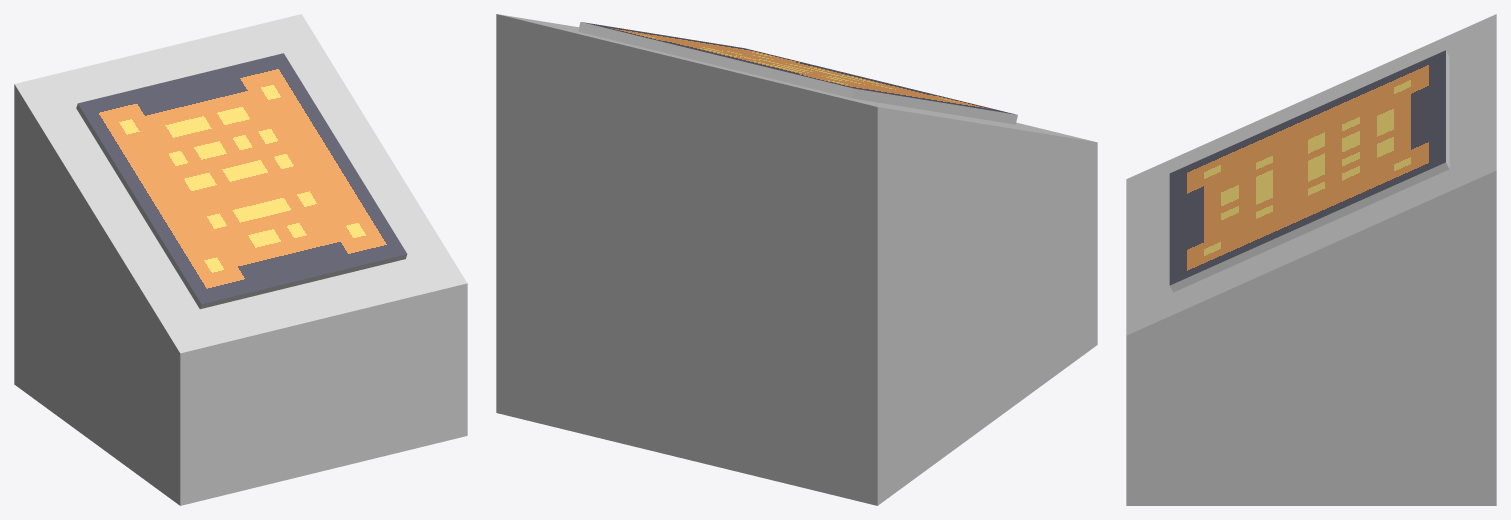
File: Placa_Inauguracao.fbx
The picture shows the model from 3 angles, left to right: view 1: azimuth 30°, elevation 25°; view 2: azimuth 150°, elevation 25°; view 3: azimuth 270°, elevation 25°; orthographic projection. The views are drawn at different scales.
Parts seen in each view (by area): view 1: Base; view 2: Base; view 3: Base.
Part boxes in pixels (<box>): Base: <box>14,14,467,505</box>; Base: <box>496,14,1097,505</box>; Base: <box>1126,14,1496,505</box>.
Bounding box in the file's own units: 99.98 × 99.98 × 99.98.
